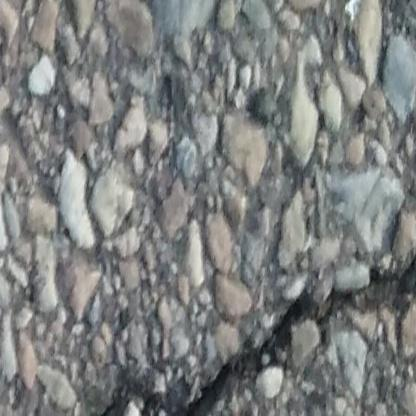Cracks: (74, 239, 416, 416)
